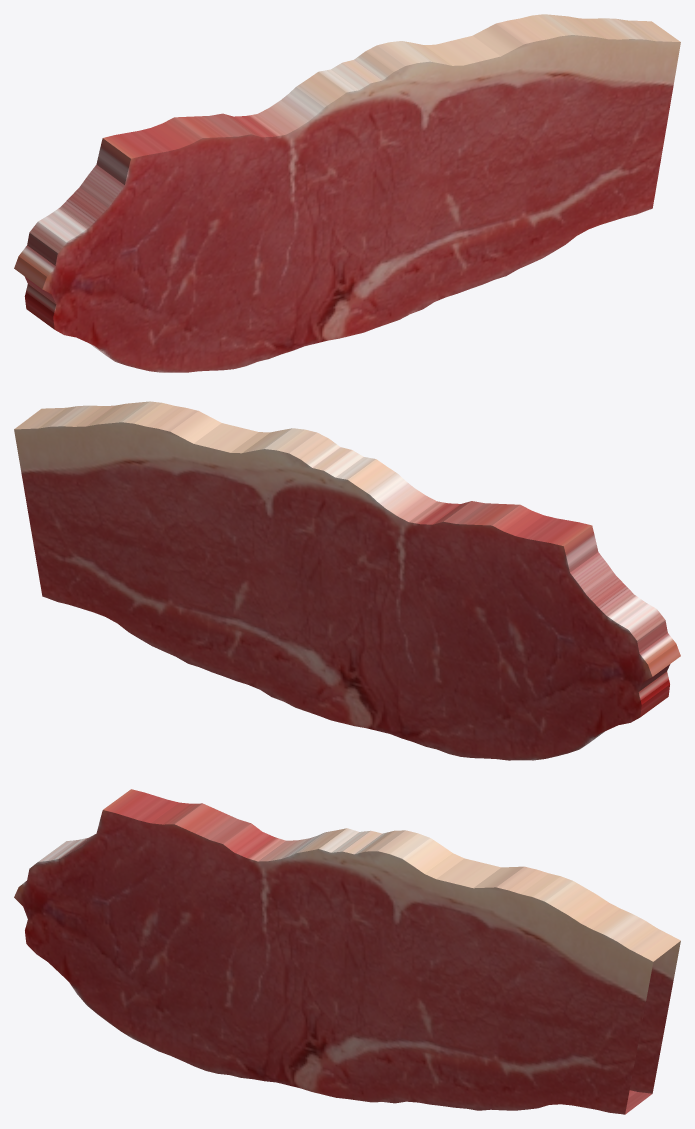
The model's file is porkcut-1.fbx.
3 renders of one model, top to bottom at view 1: azimuth 30°, elevation 25°; view 2: azimuth 150°, elevation 25°; view 3: azimuth 330°, elevation 25°, orthographic.
Visible parts, largest first — view 1: Object_2; view 2: Object_2; view 3: Object_2.
Boxes of the visible parts, x1,y1,x2,y2 form: Object_2: (14,14,680,372); Object_2: (14,401,680,760); Object_2: (14,789,680,1114).
Bounding box in the file's own units: 133 × 52.19 × 10.28.
